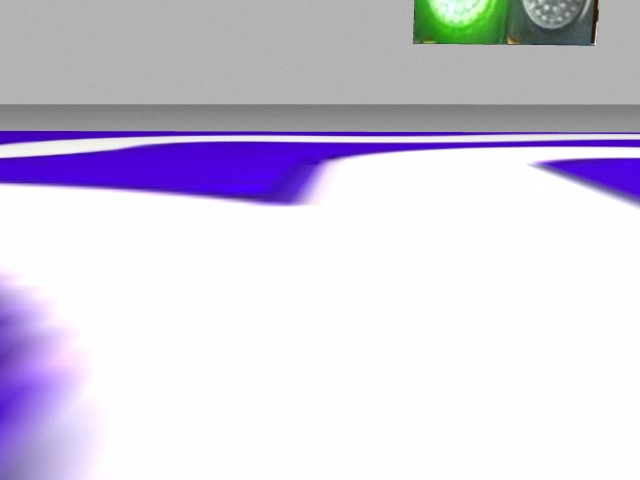green: (414, 3, 507, 43)
